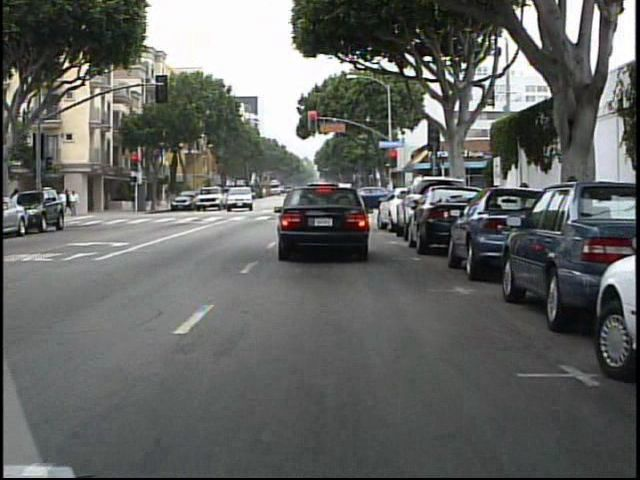person: (69, 189, 84, 217), (69, 187, 70, 218)
